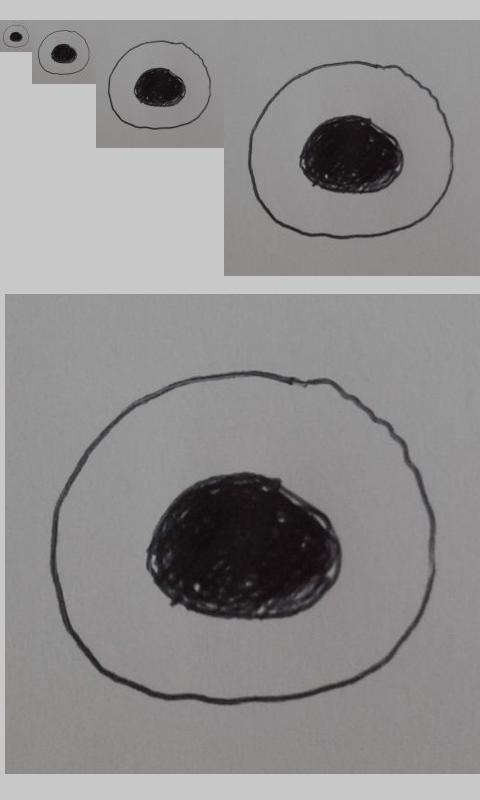radio_button: (46, 366, 442, 711), (243, 55, 459, 242), (106, 38, 212, 131), (37, 28, 92, 76), (2, 24, 30, 49)
